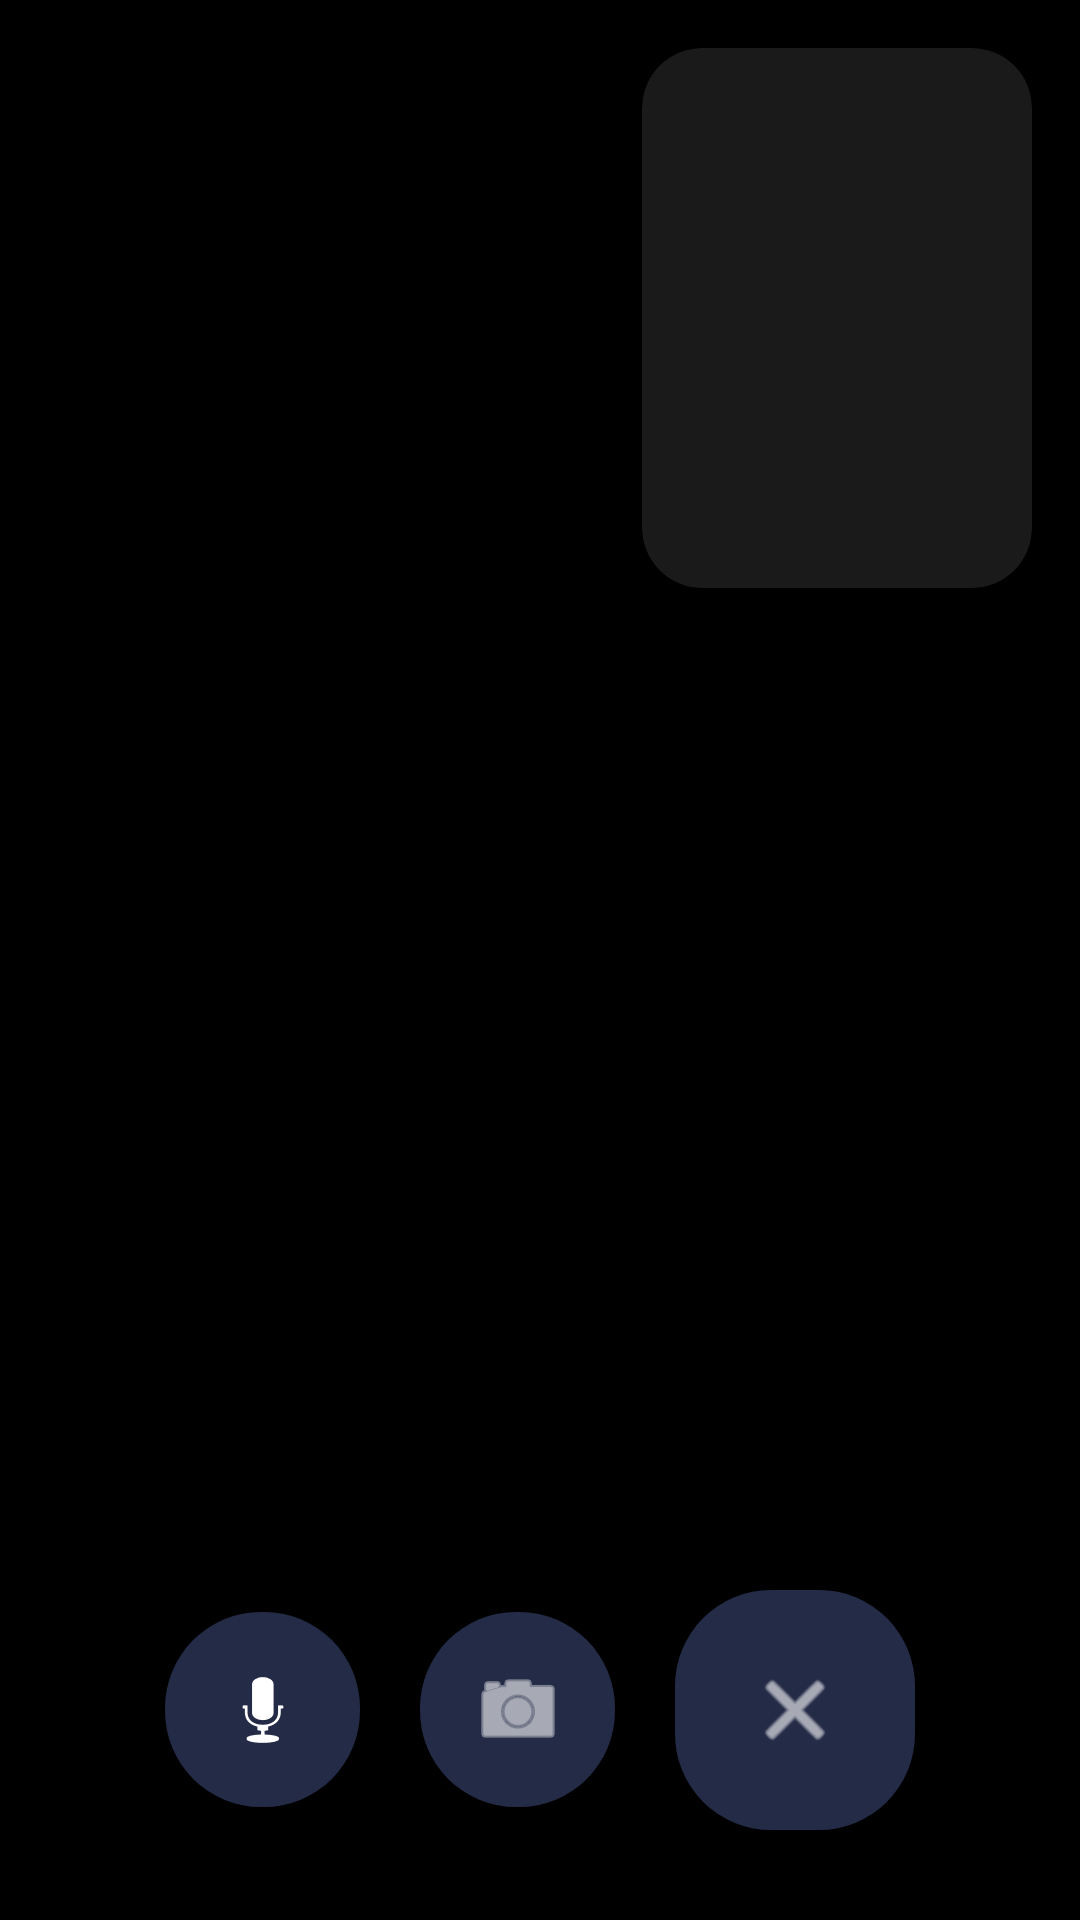

Screen size 1080 x 1920. Icon name, then its center in pixels as (x,y):
camera: (517,1709)
close clear cancel: (795,1710)
speak now: (262,1709)
